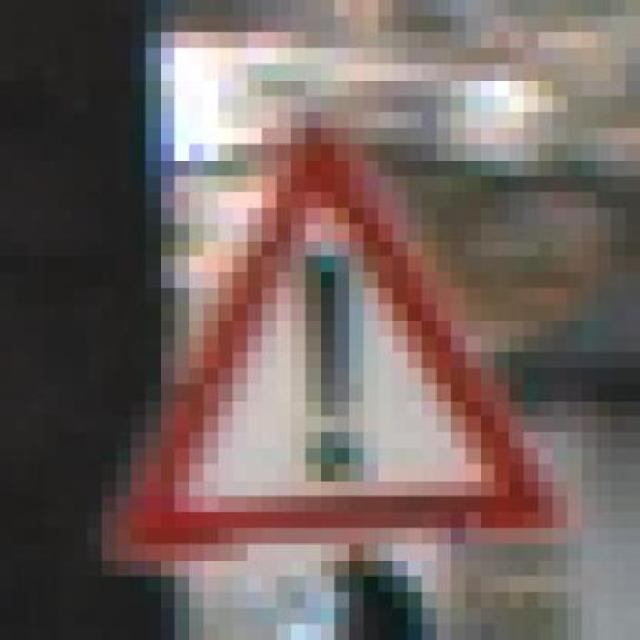Attention Please-: (53, 139, 562, 556)
